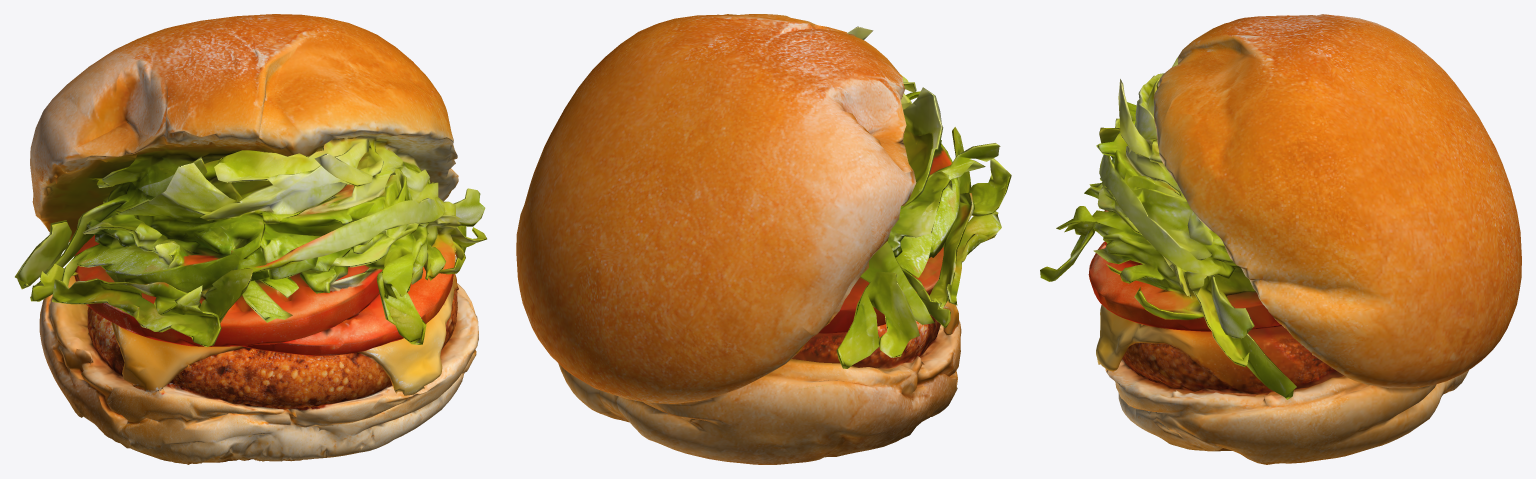
File: veggieburger.glb
3 views of the same model, side by side, from view 1: azimuth 30°, elevation 25°; view 2: azimuth 150°, elevation 25°; view 3: azimuth 270°, elevation 25° (orthographic). The views are drawn at different scales.
Visible parts, largest first — view 1: tripo_node_41b687e1-0891-4394-ba55-ef376f9048a7; view 2: tripo_node_41b687e1-0891-4394-ba55-ef376f9048a7; view 3: tripo_node_41b687e1-0891-4394-ba55-ef376f9048a7.
Boxes of the visible parts, box(x1,y1,x2,y2) form: tripo_node_41b687e1-0891-4394-ba55-ef376f9048a7: box(15, 14, 486, 464); tripo_node_41b687e1-0891-4394-ba55-ef376f9048a7: box(516, 14, 1011, 464); tripo_node_41b687e1-0891-4394-ba55-ef376f9048a7: box(1040, 14, 1521, 464).
Bounding box in the file's own units: 0.9501 × 0.7941 × 0.9794.
Materials: 1 (1 with a texture image).
